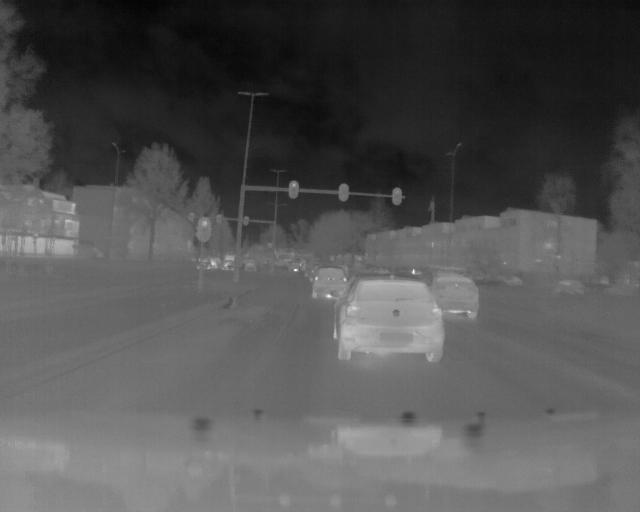car: (334, 271, 446, 375), (437, 269, 489, 318), (310, 266, 345, 299)
